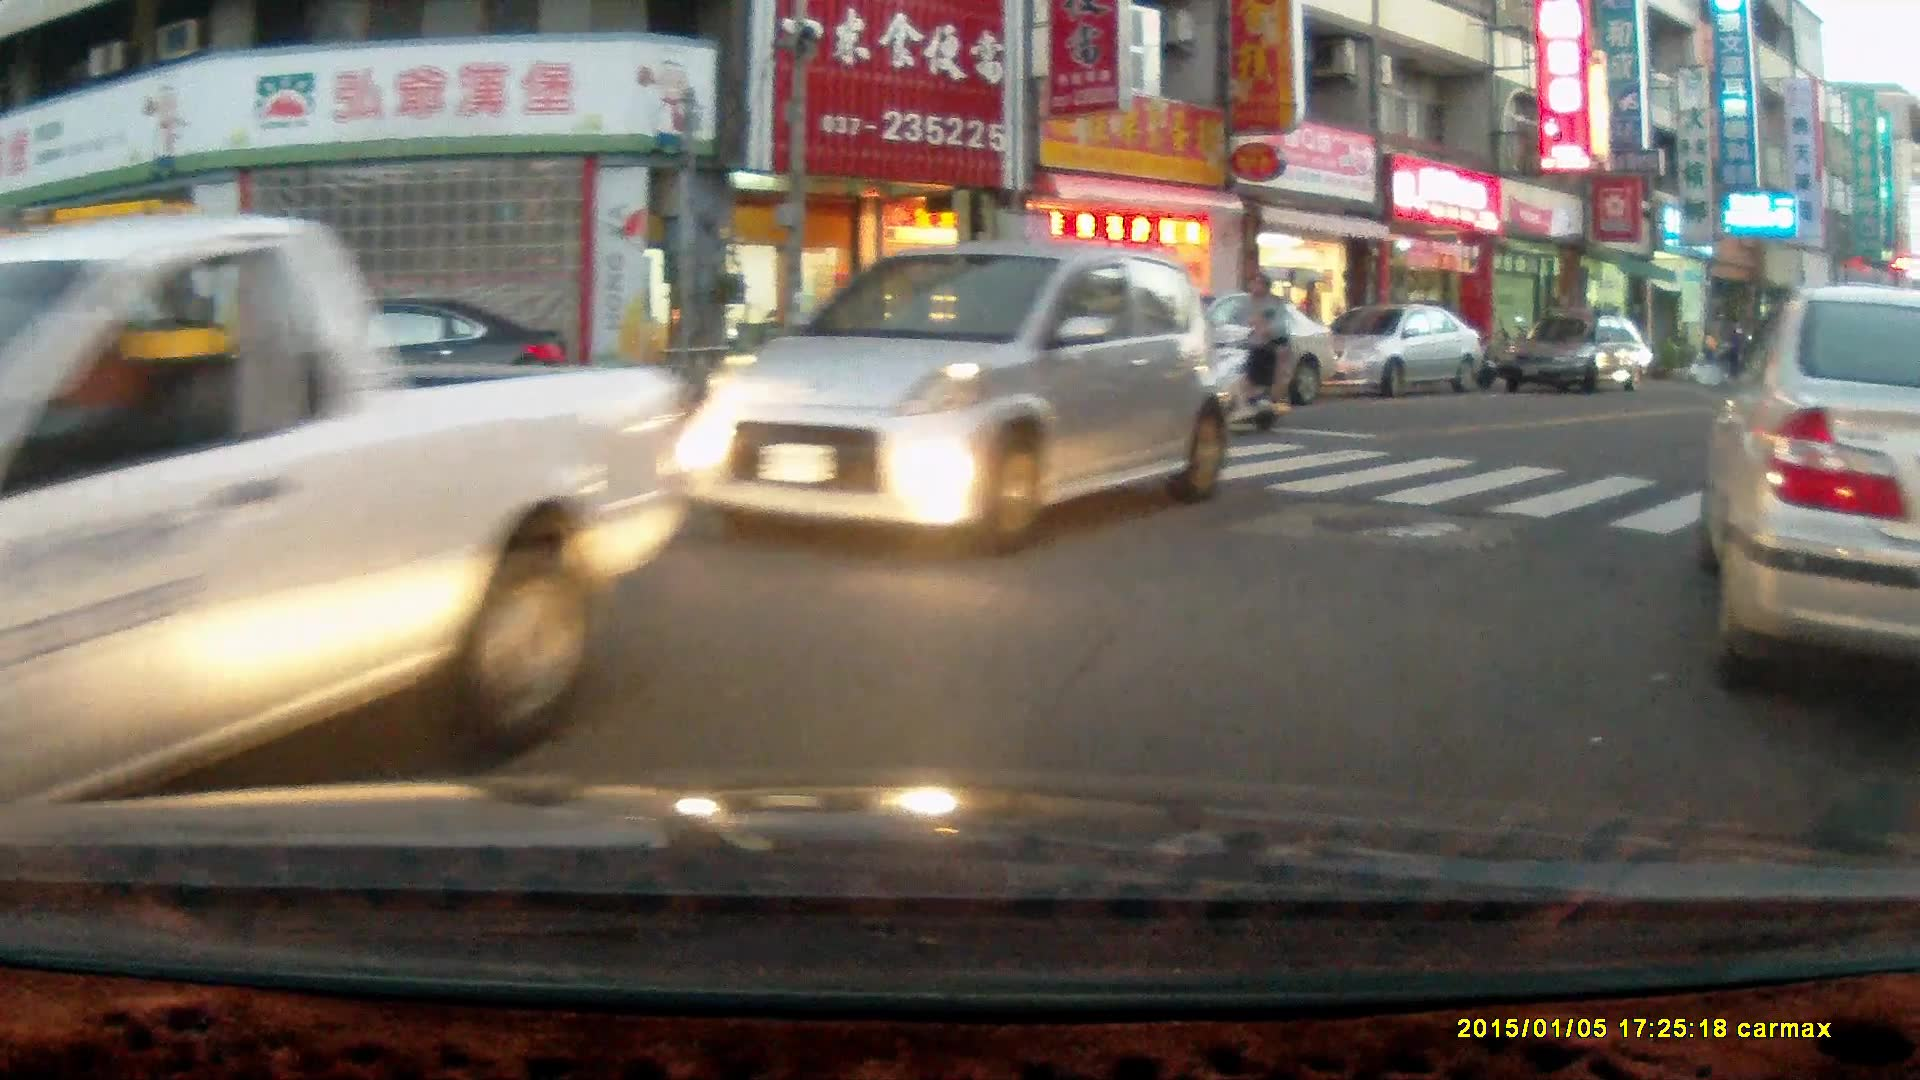rider: (1187, 260, 1291, 438)
vehicle: (1, 212, 699, 834), (668, 245, 1243, 552), (1700, 280, 1920, 713), (242, 291, 573, 443), (1129, 293, 1340, 412), (1313, 305, 1483, 397), (1498, 316, 1656, 394)
